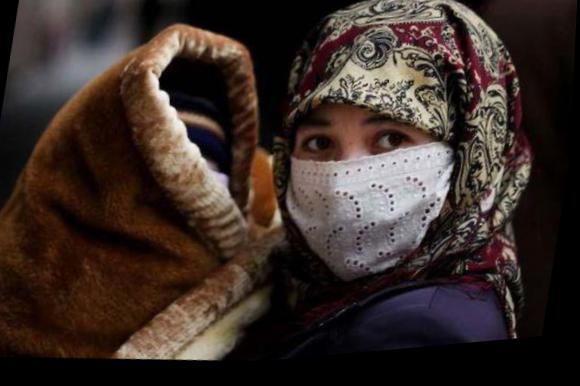WRONG: (273, 92, 439, 293)
